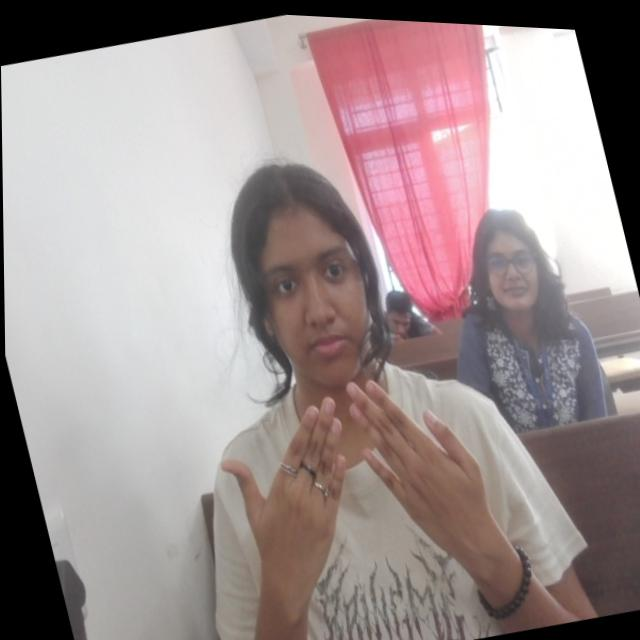thankyou: (200, 345, 503, 606)
